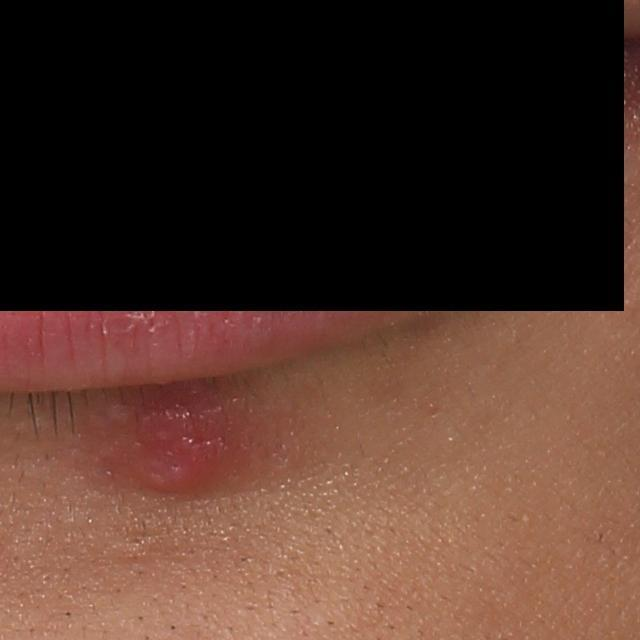papule: (124, 389, 238, 504)
